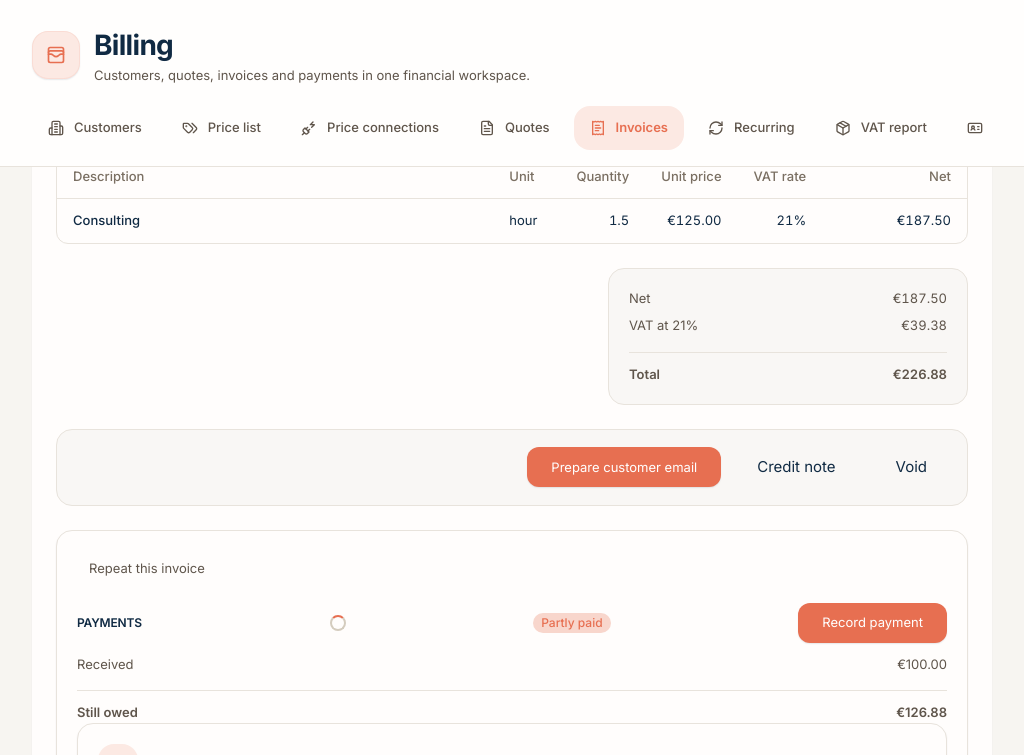
Scenario: the lifecycle actions › voiding keeps the number and says the document is worth nothing
The image size is (1024, 755).
(page scrolled)
Click the button "Void". click: (911, 467)
box: left=872, top=446, right=951, bottom=489
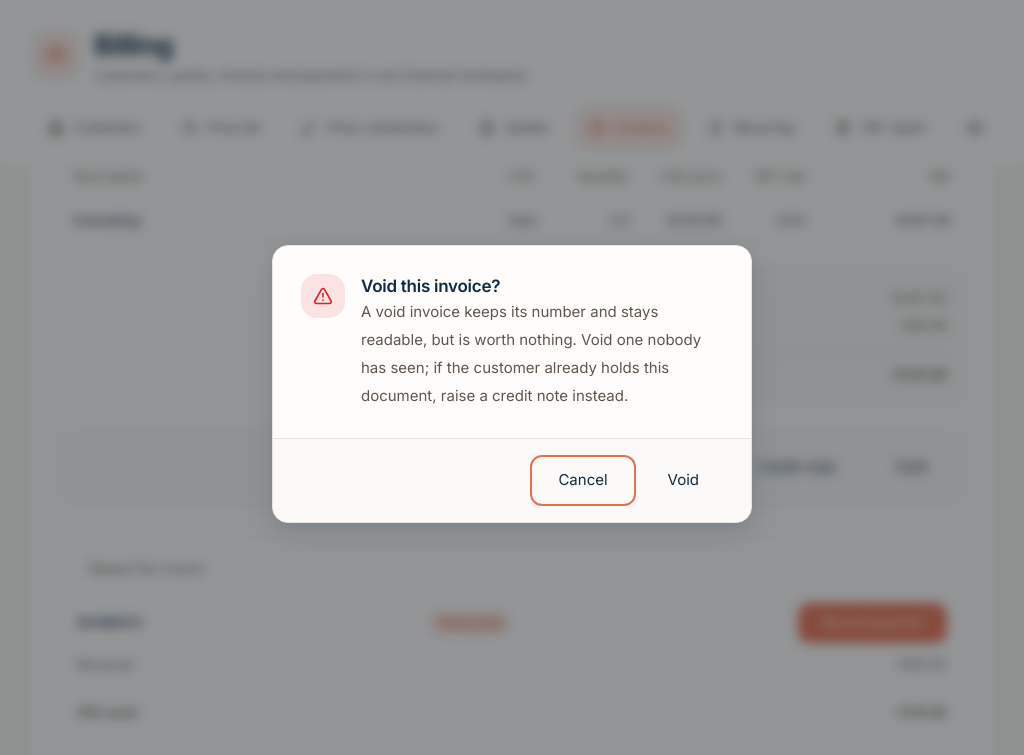
Expected: the text "A void invoice keeps its number and stays readable, but is worth nothing. Void one nobody has seen; if the customer alre" is shown, left=361, top=302, right=706, bottom=405
Click the button "Void". click: (683, 481)
box: left=644, top=459, right=723, bottom=502
(page scrolled)
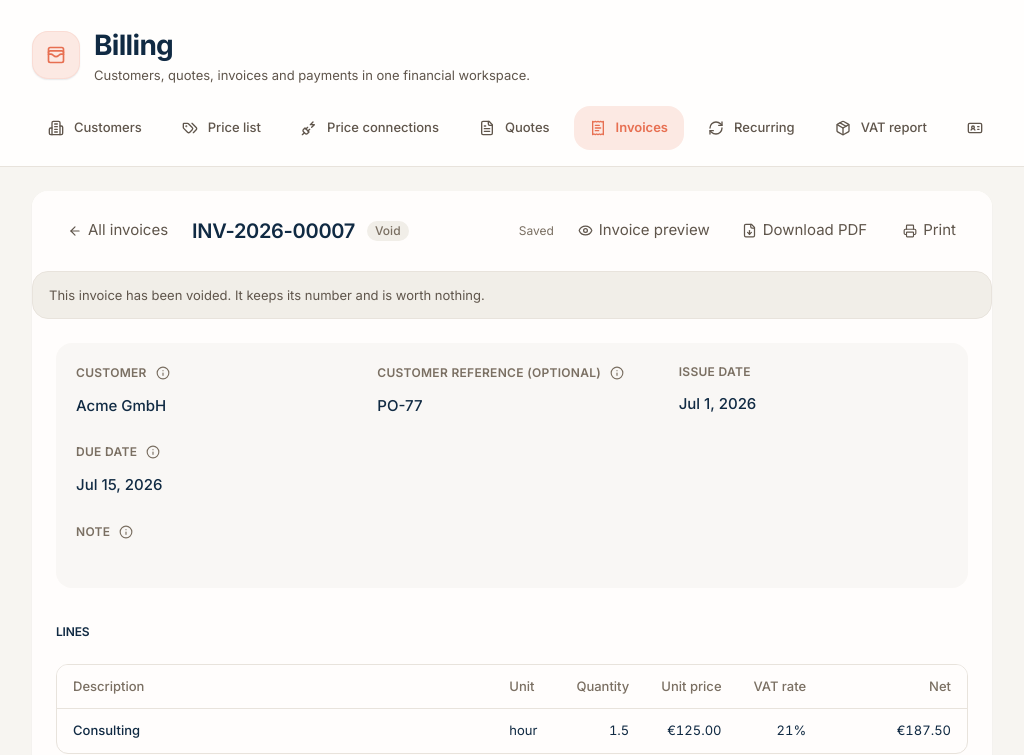
Expected: the text "Void" is shown, left=367, top=220, right=409, bottom=240
Expected: the text "This invoice has been voided. It keeps its number and is worth nothing." is shown, left=32, top=270, right=992, bottom=319
Expected: the heading "INV-2026-00007" is shown, left=192, top=216, right=355, bottom=246
